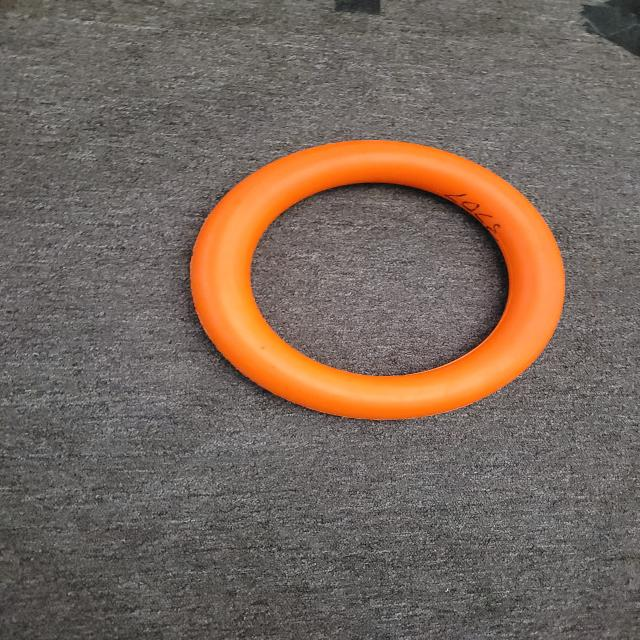note: (167, 132, 598, 433)
